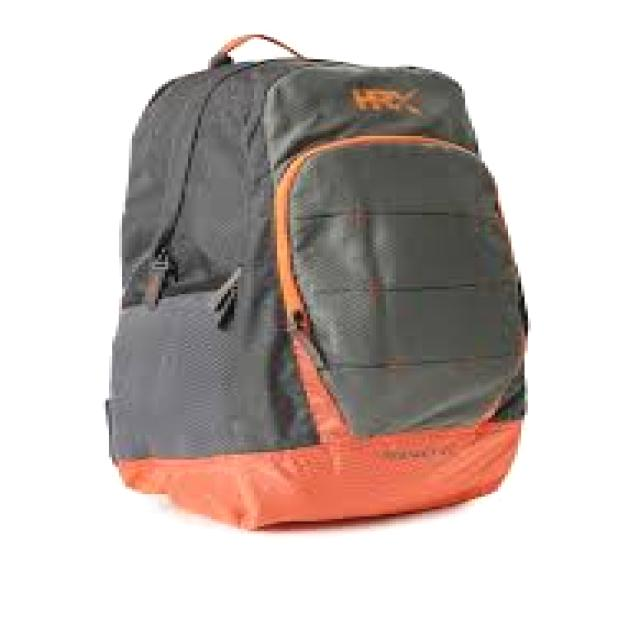backpack: (103, 34, 529, 530)
